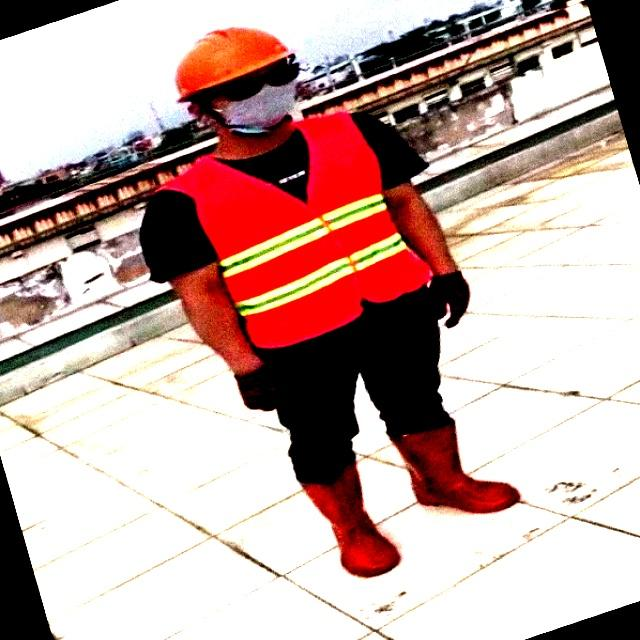Capacete: (176, 27, 290, 101)
Colete: (163, 113, 431, 347)
Oculos: (221, 56, 299, 101)
